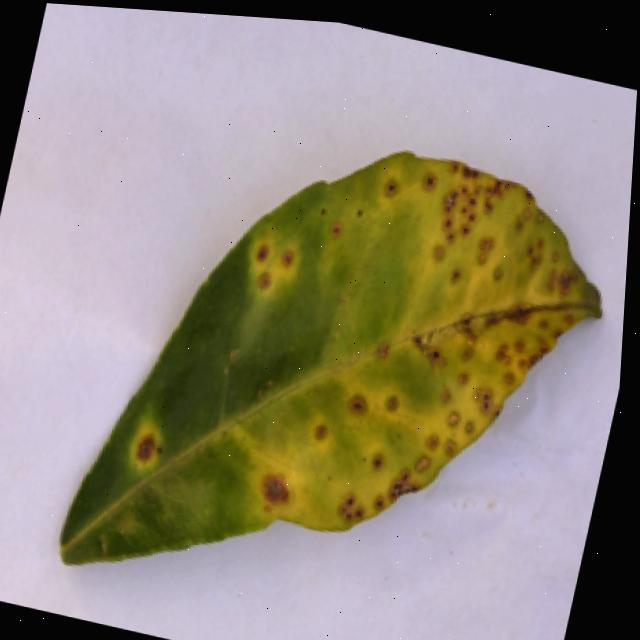canker: (61, 151, 600, 559), (311, 129, 634, 588), (227, 231, 309, 310), (237, 463, 304, 525), (119, 420, 168, 480), (299, 412, 338, 459)
